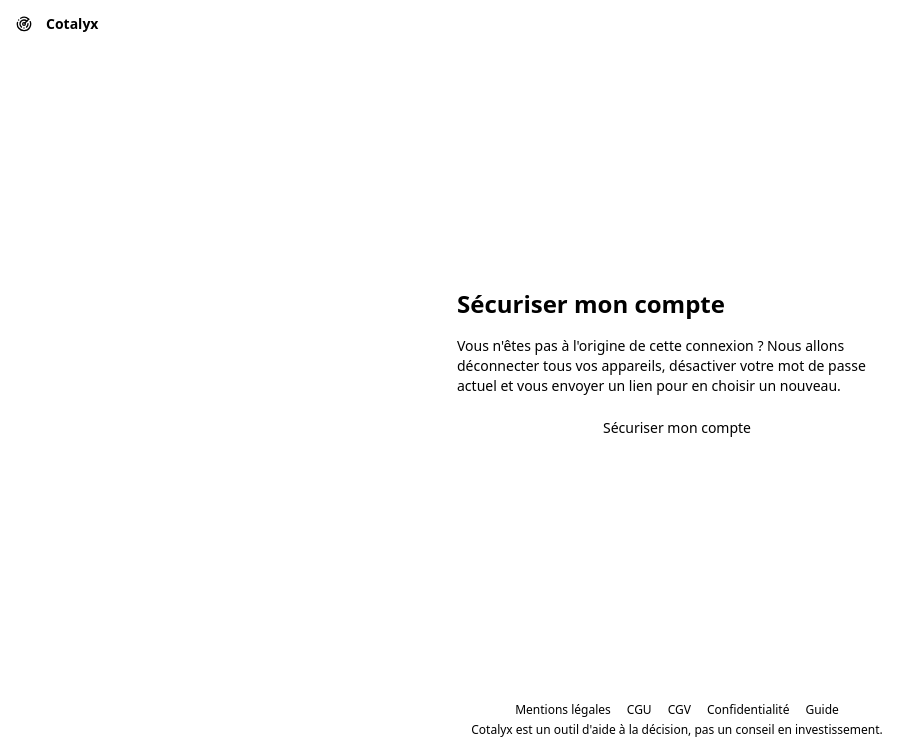
it: ce n'était pas moi : rien ne se passe sans clic
Click the button "Sécuriser mon compte" at coordinates (677, 428), box top-left (457, 412), bottom-right (897, 444)
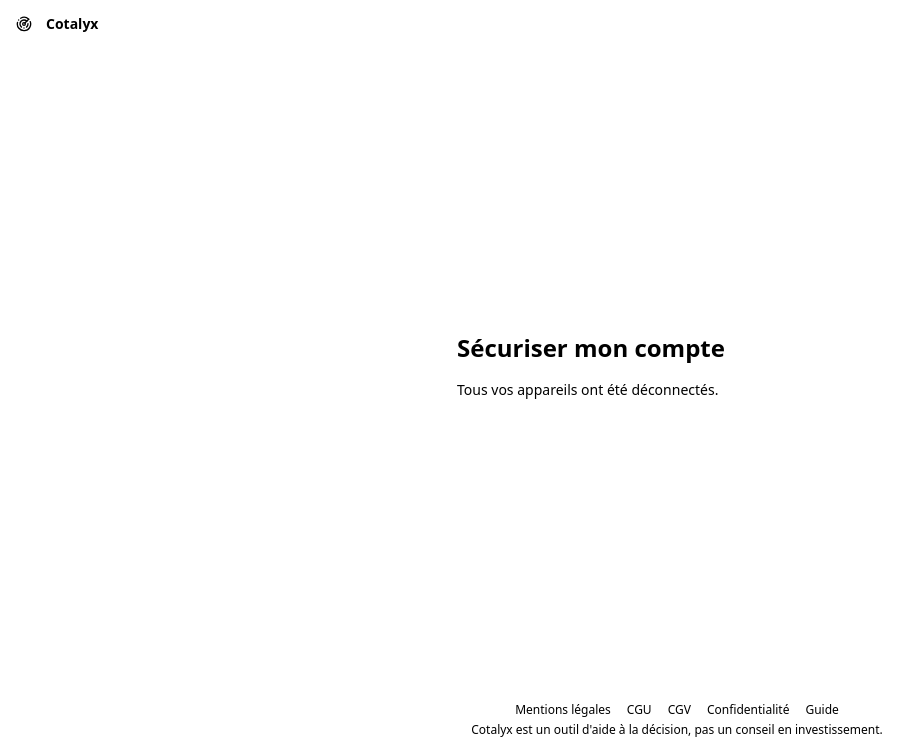
Expected: the message shows "déconnectés", top-left (457, 380), bottom-right (718, 399)
